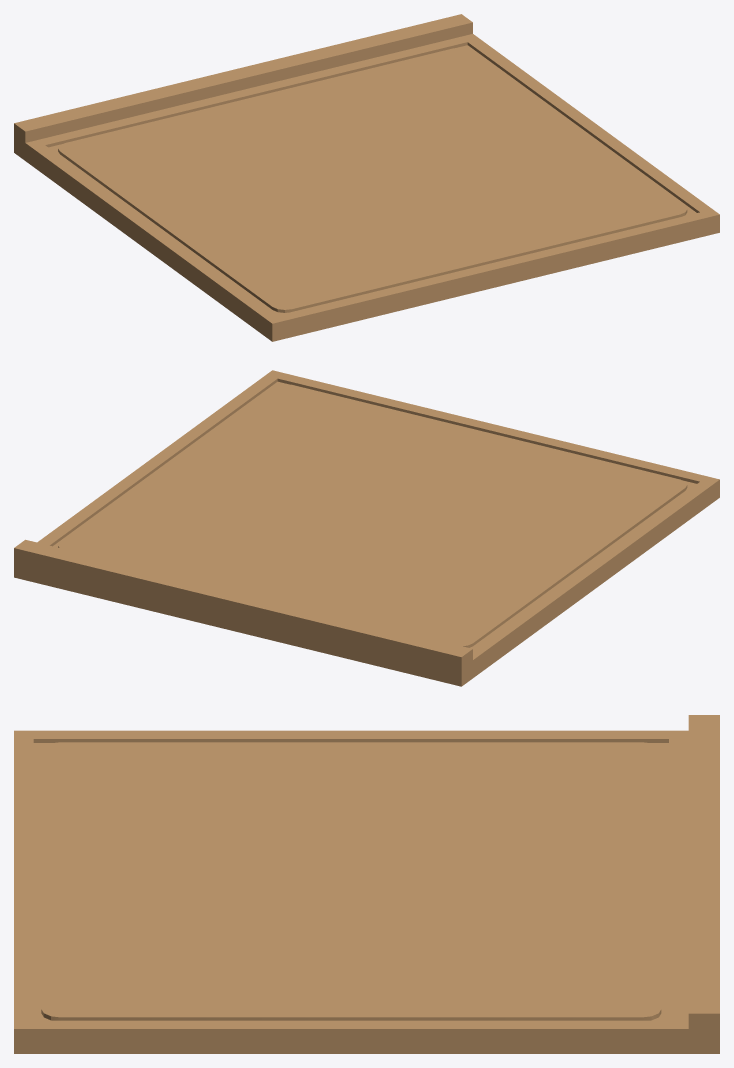
The model's file is chopping_board_2.glb.
The picture shows the model from 3 angles, top to bottom: view 1: azimuth 30°, elevation 25°; view 2: azimuth 150°, elevation 25°; view 3: azimuth 270°, elevation 25°; orthographic projection. The views are drawn at different scales.
Visible parts, largest first — view 1: chopping_board_2.001; view 2: chopping_board_2.001; view 3: chopping_board_2.001.
Boxes of the visible parts, x1=… form: chopping_board_2.001: x1=14, y1=14, x2=719, y2=341; chopping_board_2.001: x1=14, y1=370, x2=719, y2=686; chopping_board_2.001: x1=14, y1=715, x2=719, y2=1053.
Bounding box in the file's own units: 0.2034 × 0.0128 × 0.2034.
Materials: 1 (1 with a texture image).
